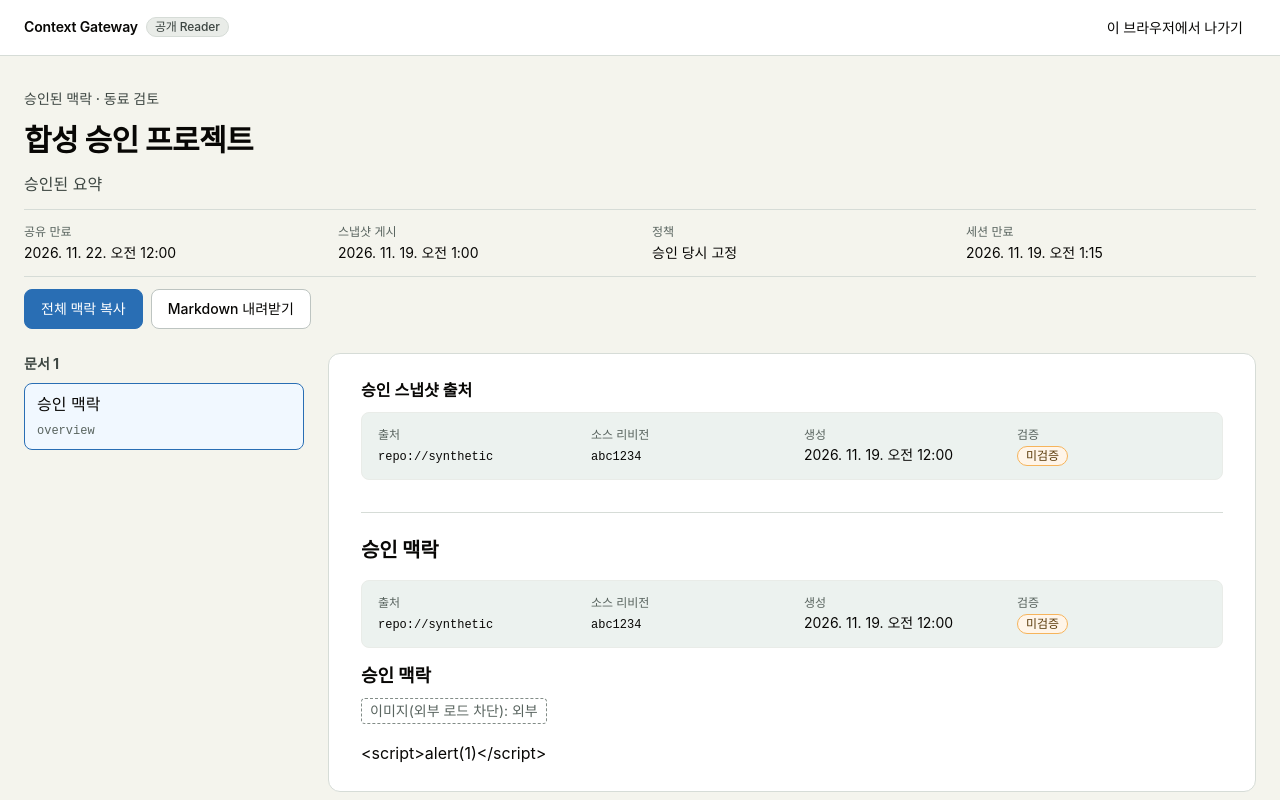
Test case: 공개 공유 Reader › 쿠키 세션으로 다시 방문하고 로그아웃하면 서버 세션을 폐기한다
Expected: the heading "합성 승인 프로젝트" is shown, 24,122 -> 253,158
Click the button "이 브라우저에서 나가기".
click(1175, 28)  # box 1094,12 -> 1256,44
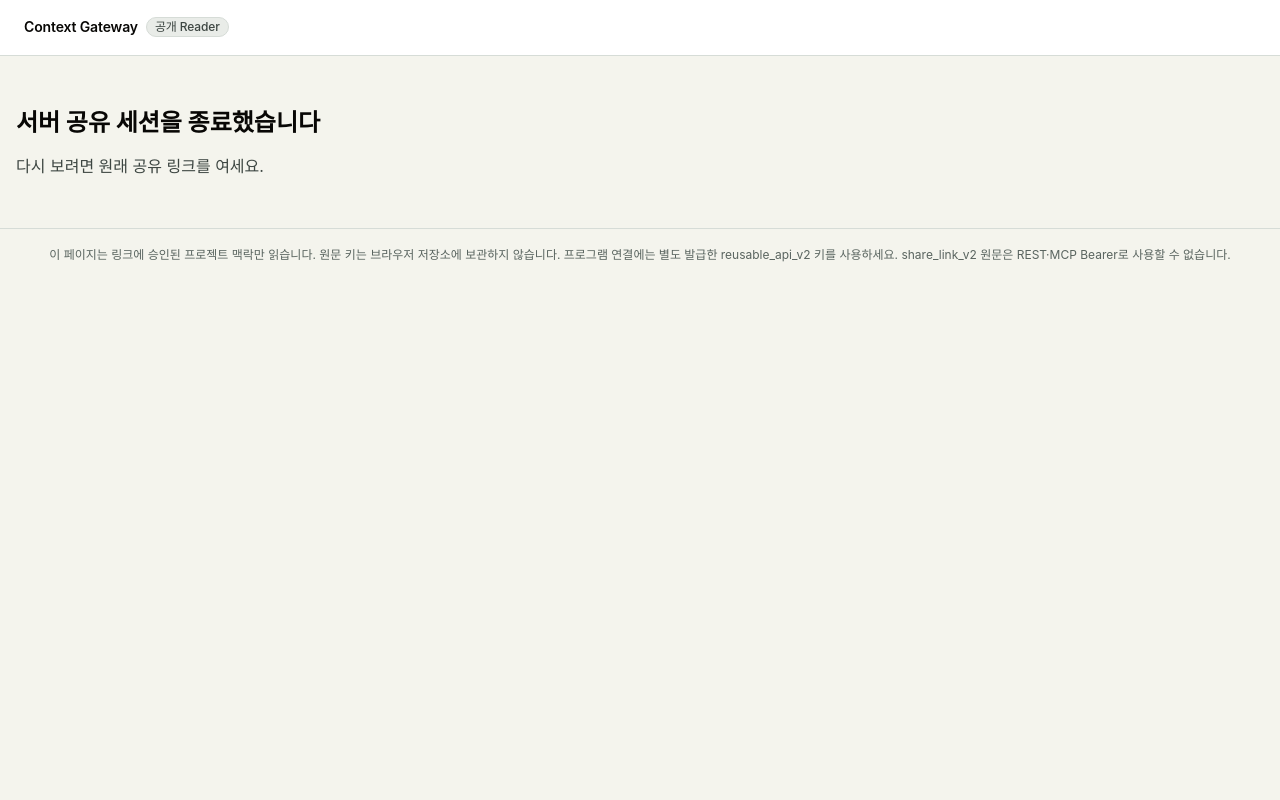
Expected: the message shows "서버 공유 세션을 종료했습니다", 16,108 -> 320,137
